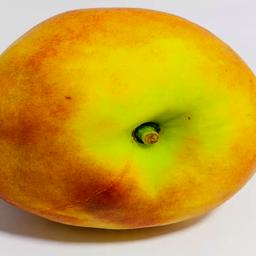Peach Ripe: (1, 6, 256, 230)
